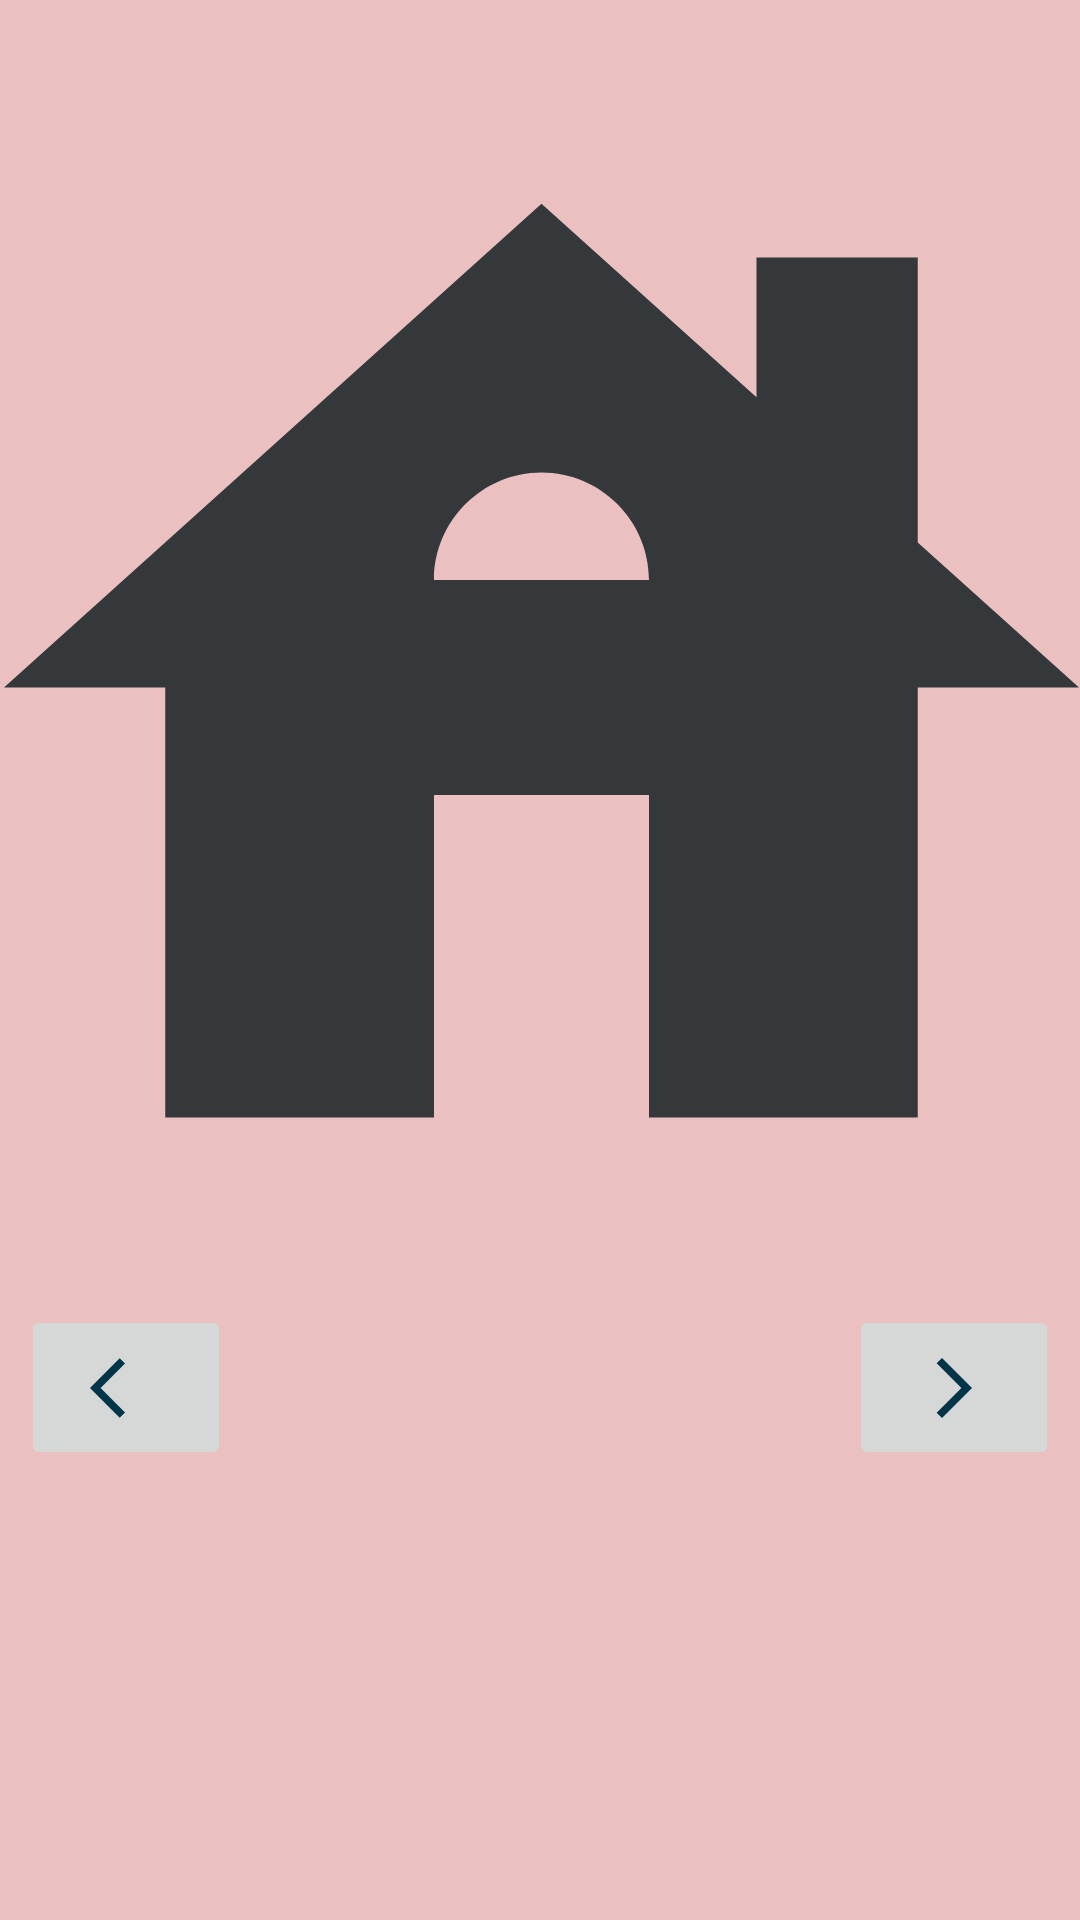

Point at icon controls on the screen. Image size 1080x1920, points as (x,y).
Flèche Droite: (954,1387)
Flèche Gauche: (126,1387)
